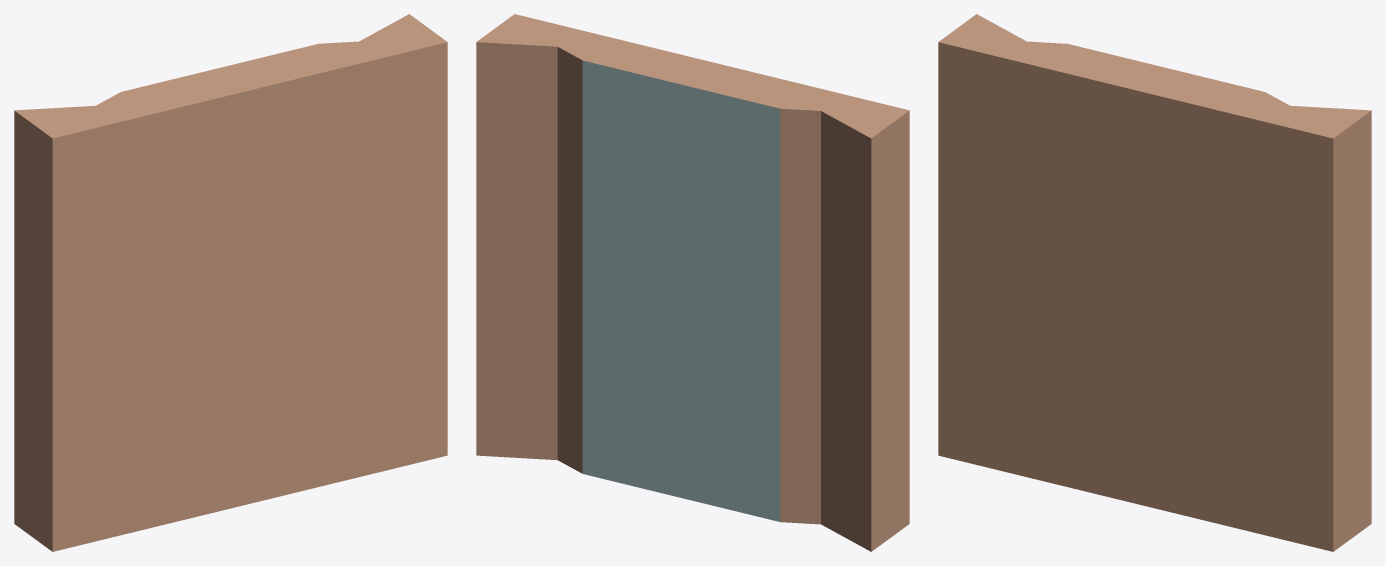
Rendered from cliff_waterfall_rock.glb.
The picture shows the model from 3 angles, left to right: view 1: azimuth 30°, elevation 25°; view 2: azimuth 150°, elevation 25°; view 3: azimuth 330°, elevation 25°; orthographic projection.
Parts seen in each view (by area): view 1: cliff_waterfall_rock; view 2: cliff_waterfall_rock; view 3: cliff_waterfall_rock.
Part boxes in pixels (left/top/right/bottom): cliff_waterfall_rock: left=14, top=14, right=447, bottom=551; cliff_waterfall_rock: left=476, top=14, right=909, bottom=551; cliff_waterfall_rock: left=938, top=14, right=1371, bottom=551.
Bounding box in the file's own units: 1 × 1 × 0.1685.
